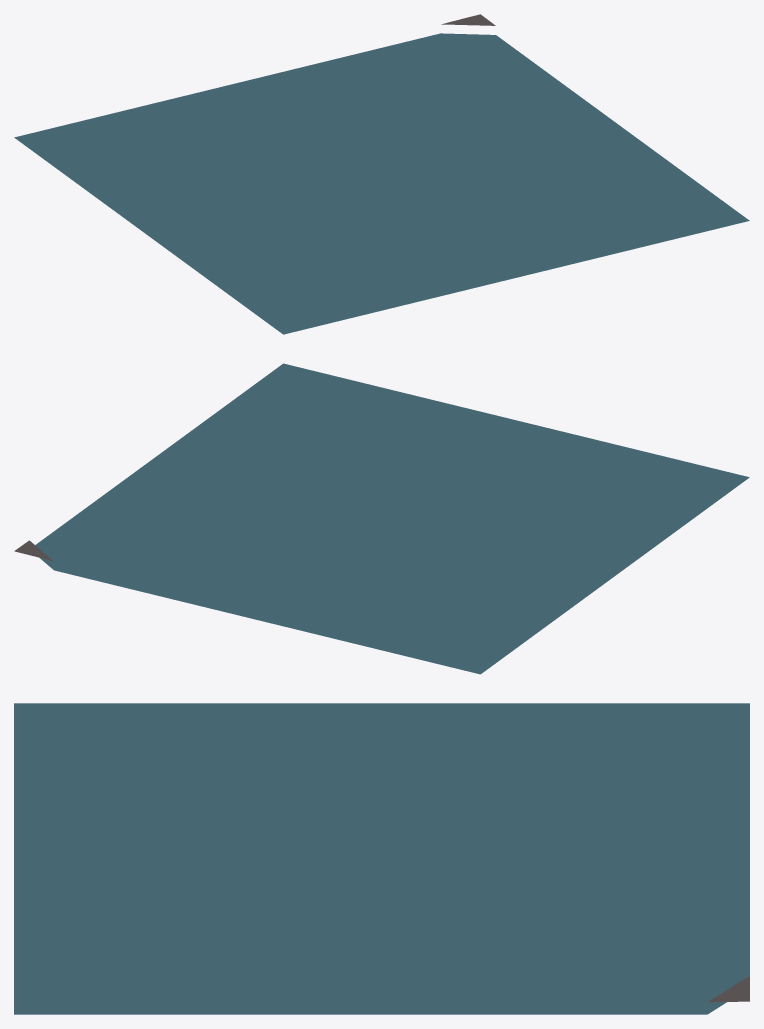
The picture shows the model from 3 angles, top to bottom: view 1: azimuth 30°, elevation 25°; view 2: azimuth 150°, elevation 25°; view 3: azimuth 270°, elevation 25°; orthographic projection. The views are drawn at different scales.
Visible parts, largest first — view 1: c_p04_p04; view 2: c_p04_p04; view 3: c_p04_p04.
Part boxes in pixels (box(x1,y1,x2,y2)): c_p04_p04: box(14, 14, 749, 334); c_p04_p04: box(14, 363, 749, 674); c_p04_p04: box(14, 703, 749, 1014).
Size of the model in its own units: 128 by 2.46 by 128.
